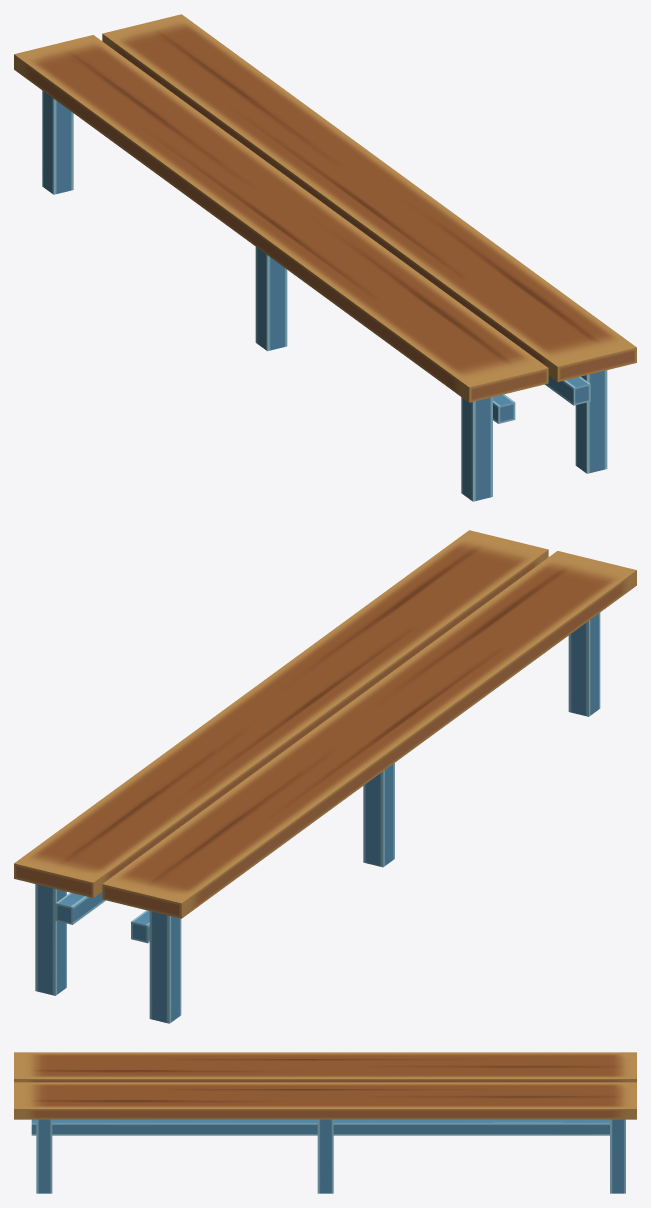
Rendered from banch_2.fbx.
3 views of the same model, one above another, from view 1: azimuth 30°, elevation 25°; view 2: azimuth 150°, elevation 25°; view 3: azimuth 270°, elevation 25° (orthographic). The views are drawn at different scales.
Parts seen in each view (by area): view 1: polySurface80; view 2: polySurface80; view 3: polySurface80.
Boxes of the visible parts, box(x1,y1,x2,y2) form: polySurface80: box(14, 14, 636, 501); polySurface80: box(14, 530, 636, 1023); polySurface80: box(14, 1052, 636, 1193).
Bounding box in the file's own units: 5.41 × 4.04 × 25.44.
